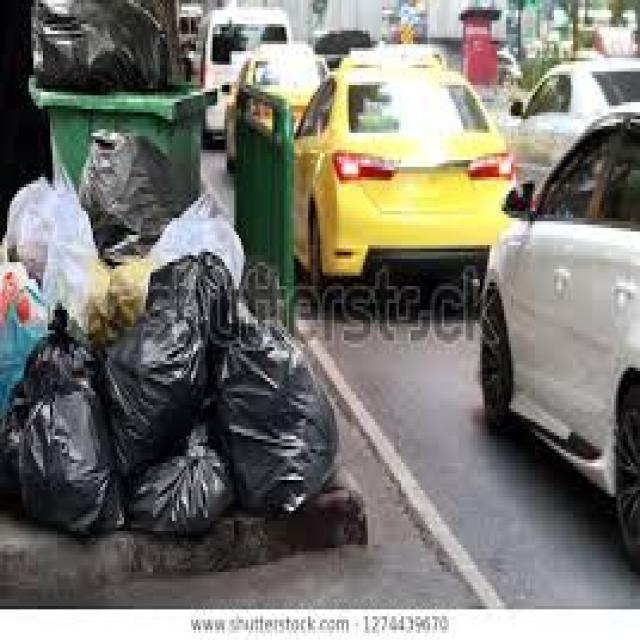garbage: (1, 251, 344, 554), (0, 124, 251, 256), (21, 0, 191, 101)
